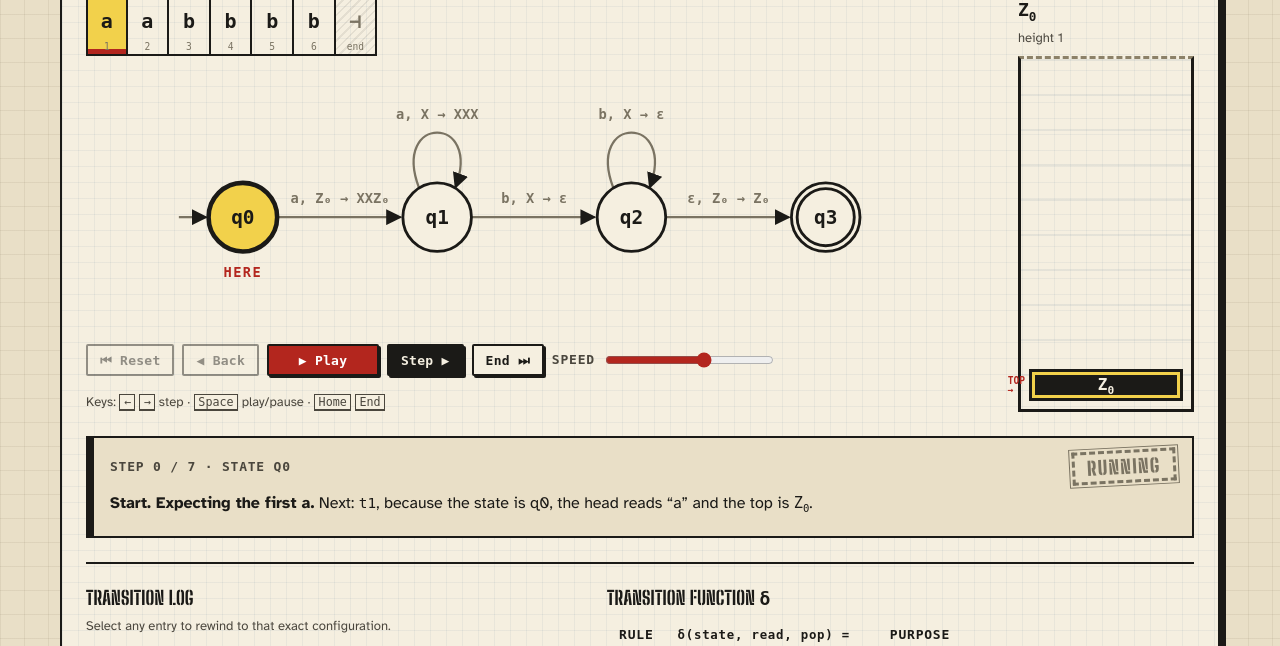
Test case: Stack Protocol simulator › autoplay runs to the end and stops
This screenshot has width=1280, height=646.
(page scrolled)
Click the button "▶ Play" at {"x": 323, "y": 360}, box [267,344,379,376]
Wait 16000 ms
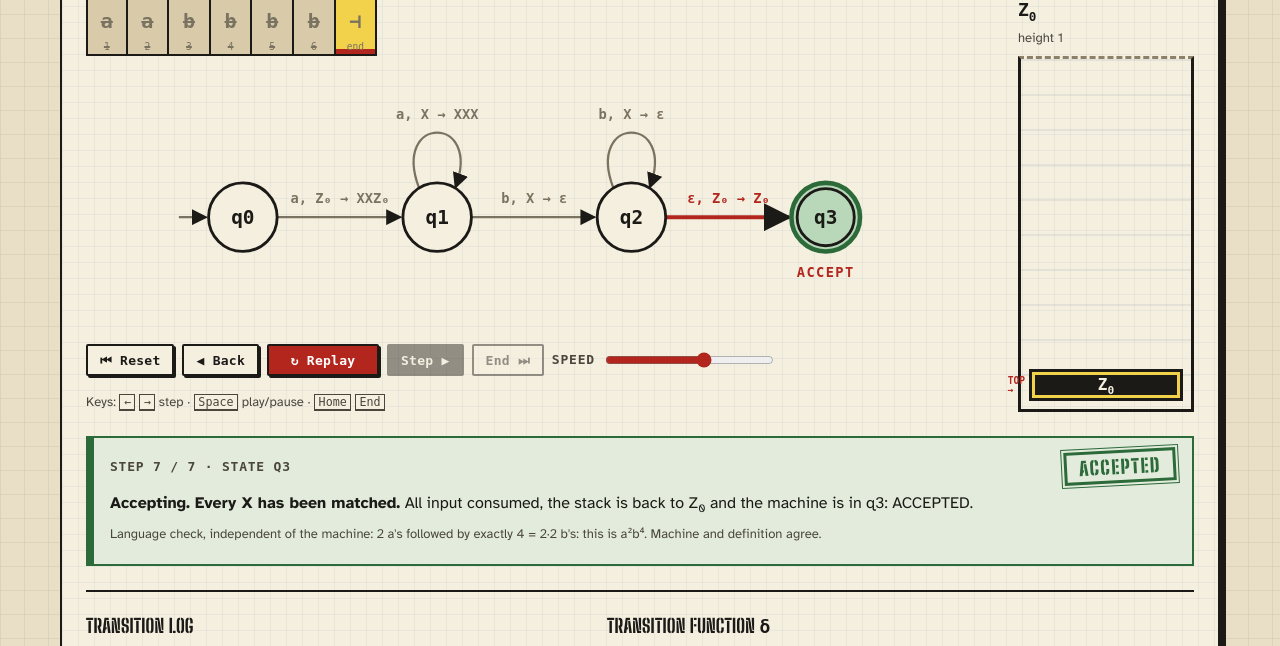
expect the button "↻ Replay" is shown: met, box [267,344,379,376]
